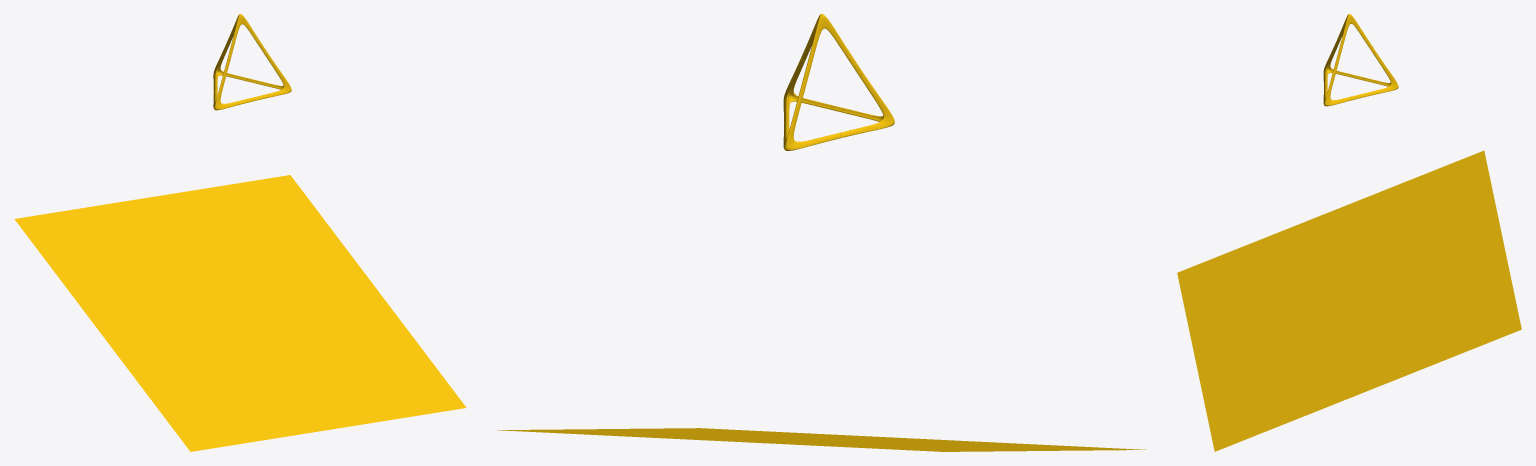
The model's file is outlineTriangleAnimation.glb.
The picture shows the model from 3 angles, left to right: view 1: azimuth 30°, elevation 25°; view 2: azimuth 150°, elevation 25°; view 3: azimuth 270°, elevation 25°; orthographic projection. The views are drawn at different scales.
Parts seen in each view (by area): view 1: Plane, Cone_cell.002, Cone_cell; view 2: Plane, Cone_cell.002, Cone_cell, Cone_cell.003; view 3: Plane, Cone_cell, Cone_cell.002, Cone_cell.003.
Boxes of the visible parts, x1=… form: Plane: x1=14, y1=175, x2=466, y2=451; Cone_cell.002: x1=213, y1=60, x2=268, y2=110; Cone_cell: x1=213, y1=31, x2=264, y2=90; Plane: x1=497, y1=428, x2=1146, y2=451; Cone_cell.002: x1=816, y1=66, x2=894, y2=138; Cone_cell: x1=783, y1=54, x2=840, y2=150; Cone_cell.003: x1=801, y1=14, x2=854, y2=61; Plane: x1=1177, y1=150, x2=1521, y2=451; Cone_cell: x1=1350, y1=35, x2=1398, y2=100; Cone_cell.002: x1=1323, y1=41, x2=1361, y2=93; Cone_cell.003: x1=1335, y1=14, x2=1365, y2=63.
Size of what is drawn, in the model's own units: 8.34 by 9.72 by 8.33.
